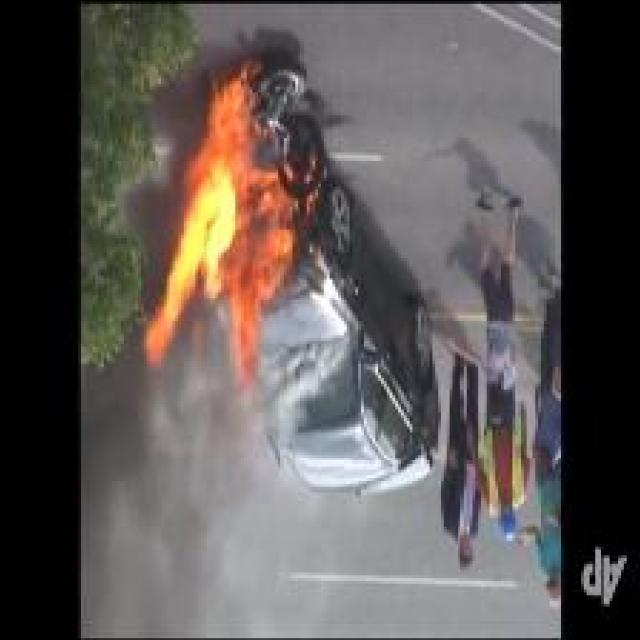Fire: (140, 60, 300, 394)
